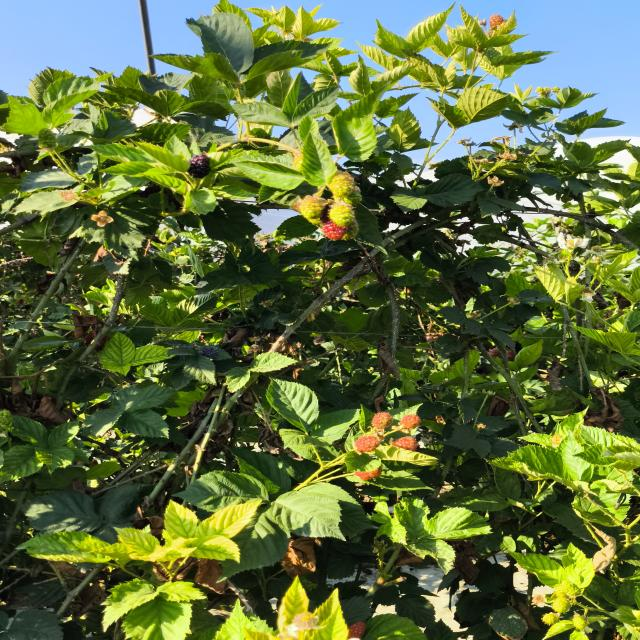marron: (188, 153, 210, 178)
naranja: (322, 221, 347, 240), (354, 436, 380, 452), (391, 436, 418, 451), (354, 467, 381, 481), (400, 414, 420, 432), (372, 412, 393, 429), (348, 621, 366, 640), (489, 14, 504, 29)
verde: (293, 195, 327, 225), (328, 171, 355, 198), (328, 202, 355, 227), (341, 187, 362, 205), (342, 218, 359, 240), (556, 580, 579, 596), (551, 596, 570, 614), (0, 410, 12, 438), (572, 613, 587, 631), (541, 613, 559, 626)
